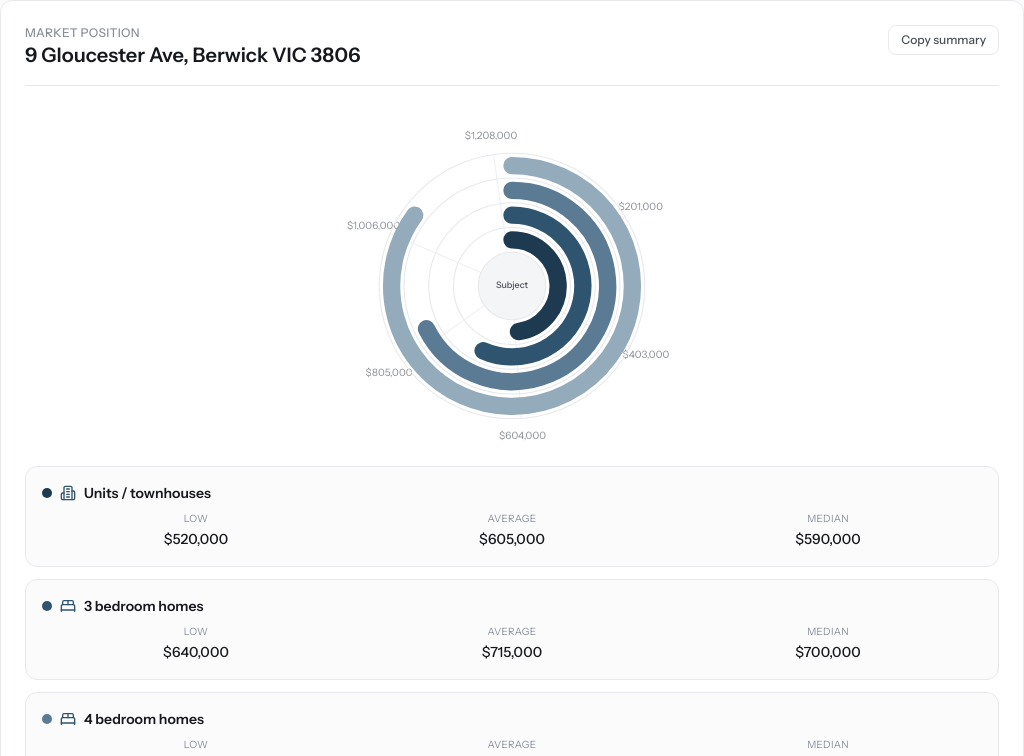
Test: QuadrantChart copy summary › shows an inline error state when the clipboard write rejects
Click the button "Copy summary" at (944, 40), box [888,25,999,55]
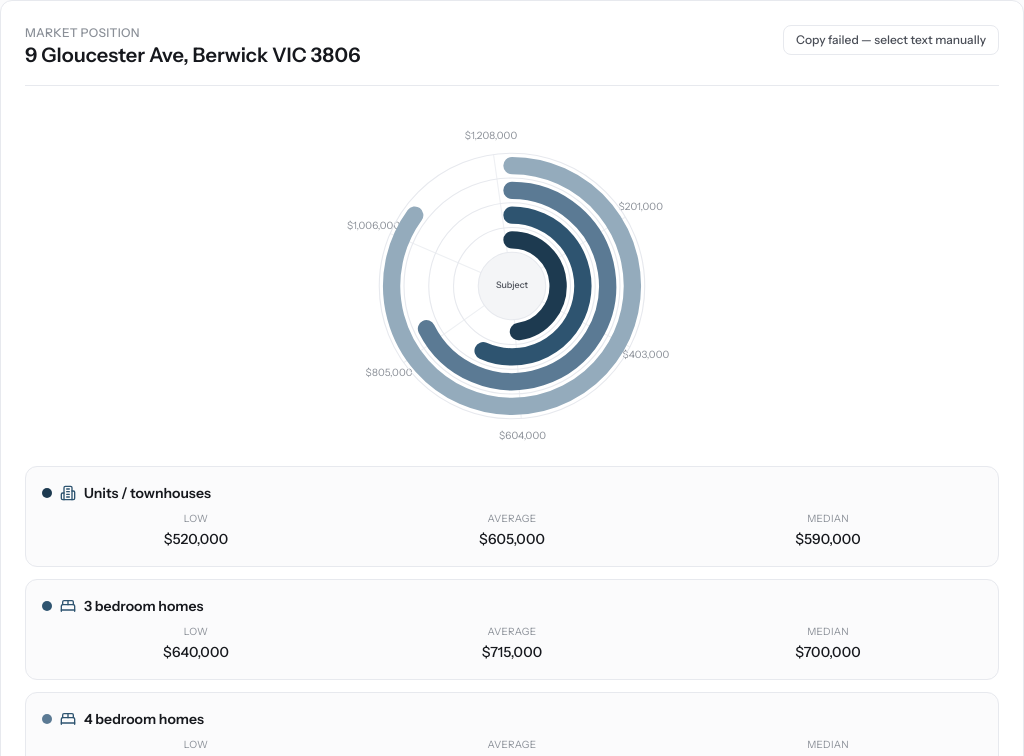
Now the button "Copy failed — select text manually" is shown, box [783,25,999,55]
